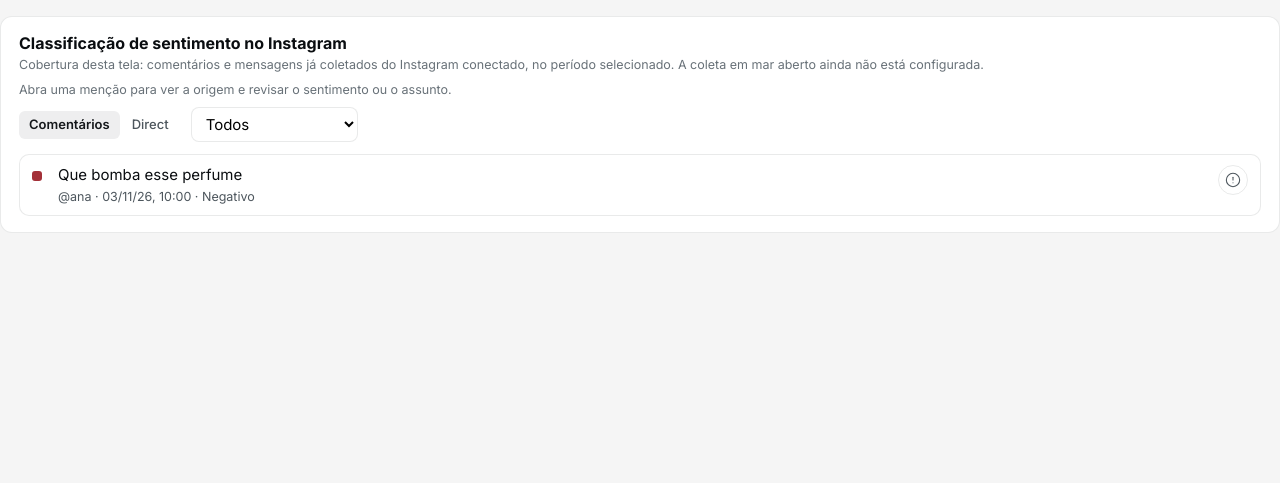
Test: MentionReview › quem não pode revisar só vê a origem
This screenshot has width=1280, height=483.
Step 1. Click the button named "De onde veio e revisar" → (1233, 180), box [1218, 165, 1248, 195]
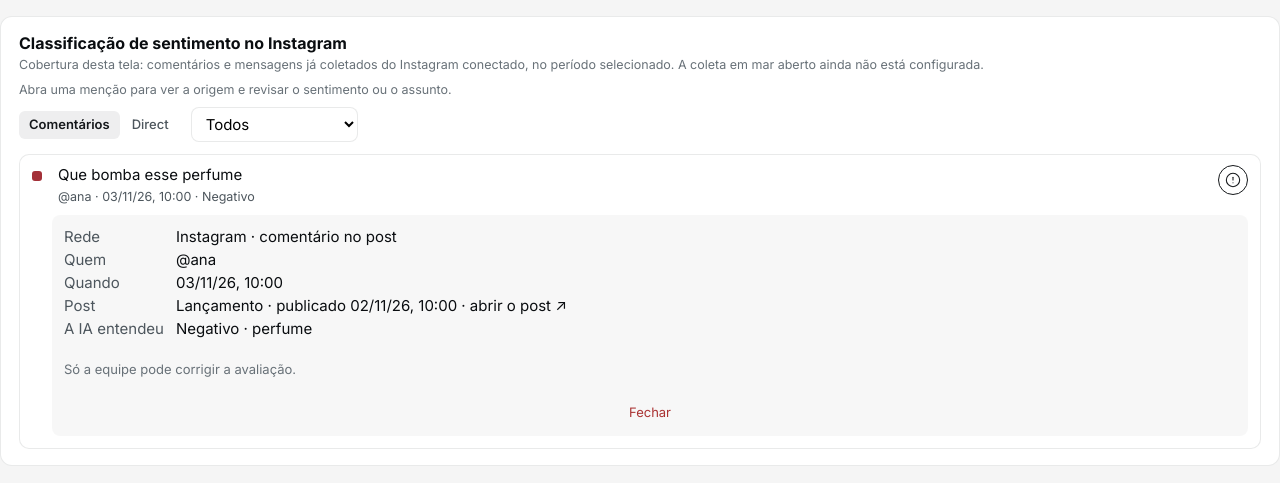
Expected: the text "Só a equipe pode corrigir a avaliação." is shown, [64, 361, 296, 377]
